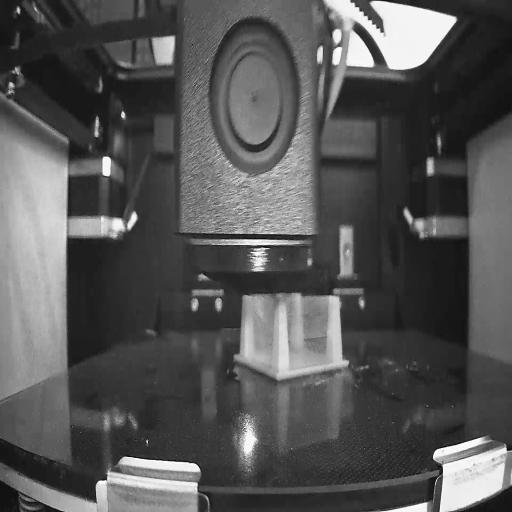stringing: (287, 293, 335, 377), (244, 290, 276, 374)
